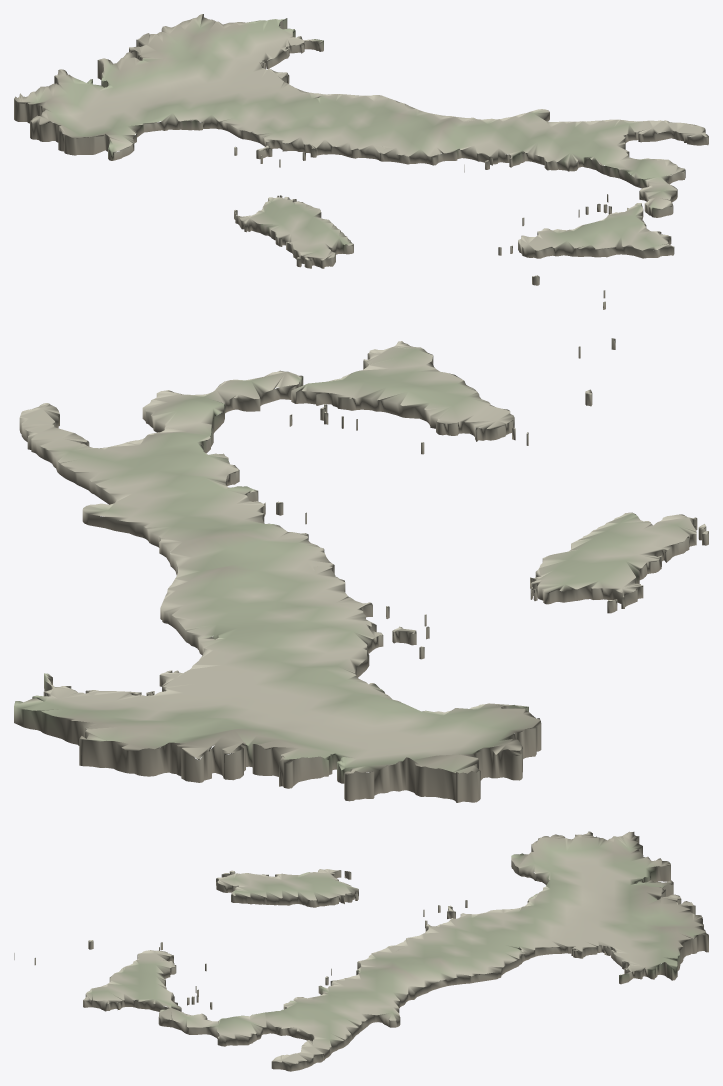
File: it-mobile.glb
The picture shows the model from 3 angles, top to bottom: view 1: azimuth 30°, elevation 25°; view 2: azimuth 150°, elevation 25°; view 3: azimuth 270°, elevation 25°; orthographic projection. The views are drawn at different scales.
Size of the model in its own units: 76.24 by 3.25 by 99.84.
